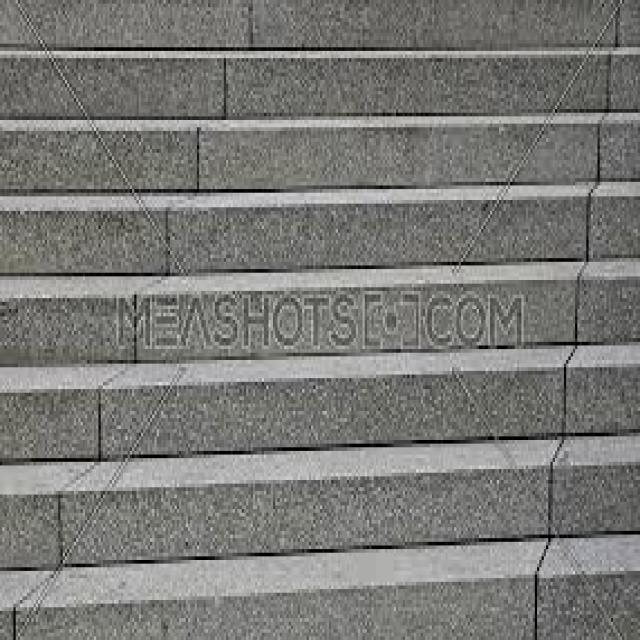upstair: (19, 1, 621, 619)
